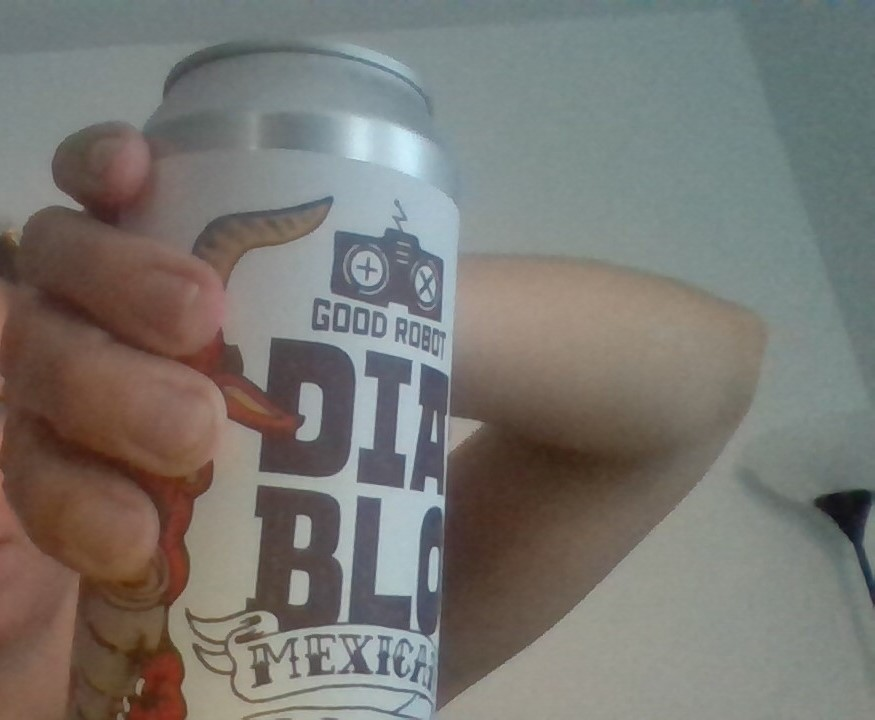Good Robot: (325, 195, 457, 325)
